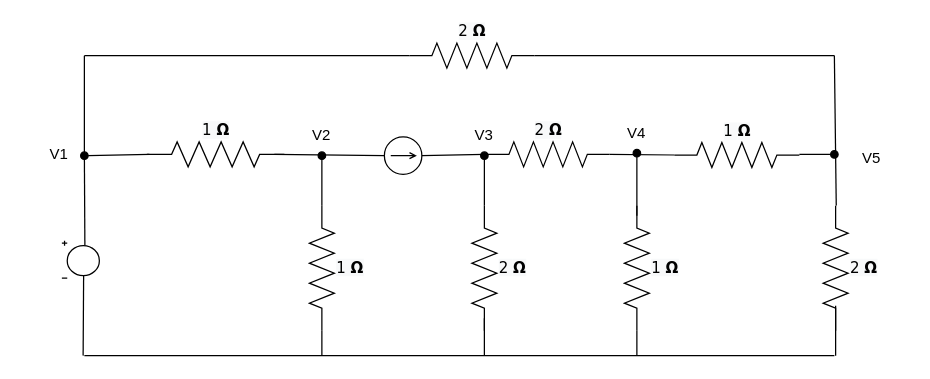
The diagram is 930 pixels wide and 379 high, and some of its shapes have lost their labels. Here are the shapes that lost their labels. From the top down, the centre of each, then its label:
At [402,155]: "1 A".
At [80,258]: "2V".
